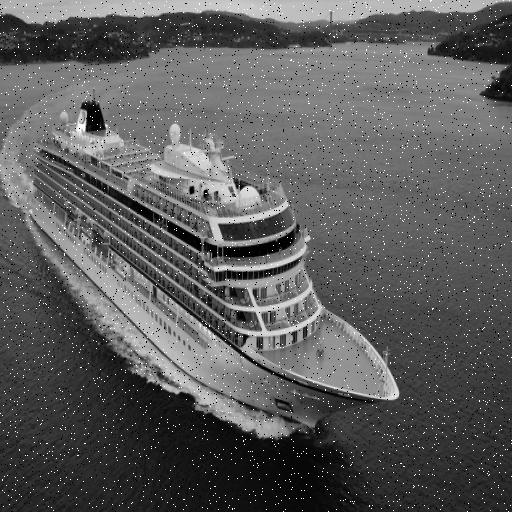cruises: (27, 84, 404, 442)
